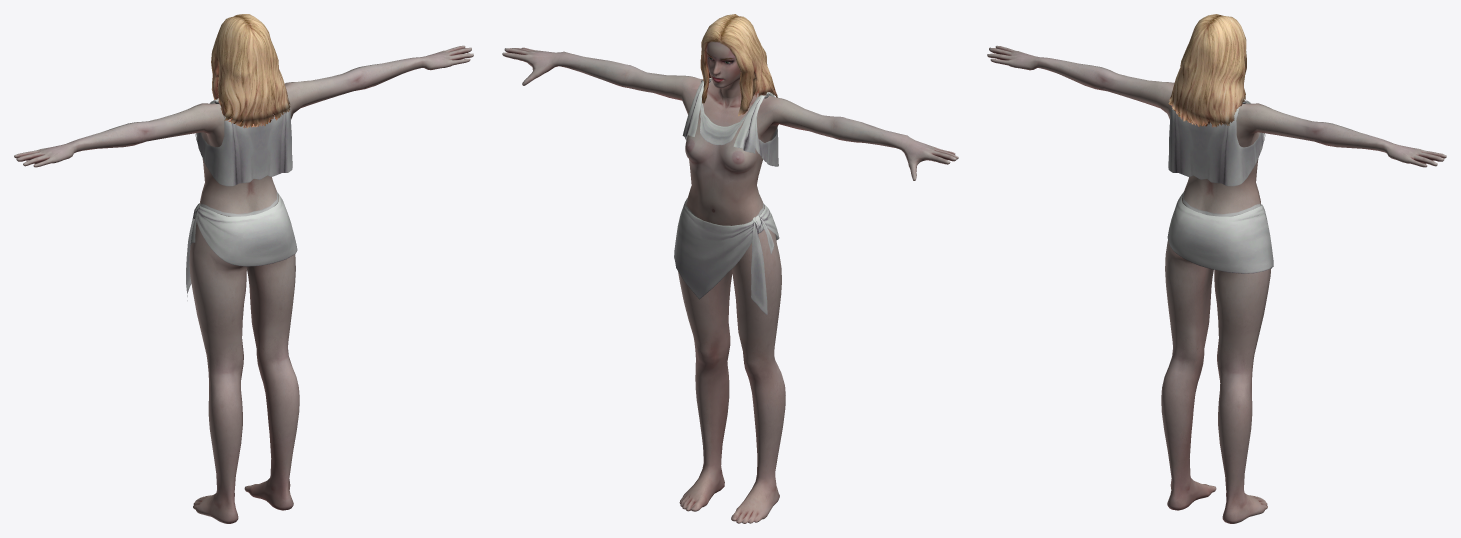
Rendered from aphroditegirl.obj.
3 renders of one model, left to right at view 1: azimuth 30°, elevation 25°; view 2: azimuth 150°, elevation 25°; view 3: azimuth 330°, elevation 25°, orthographic.
Parts seen in each view (by area): view 1: mesh00, mesh01, mesh02; view 2: mesh00, mesh01, mesh02, Object001; view 3: mesh00, mesh01, mesh02.
Part boxes in pixels (left/top/right/bottom): mesh00: left=14, top=45, right=473, bottom=523; mesh01: left=186, top=99, right=297, bottom=300; mesh02: left=211, top=14, right=290, bottom=128; mesh00: left=502, top=47, right=958, bottom=523; mesh01: left=674, top=78, right=779, bottom=314; mesh02: left=700, top=14, right=777, bottom=116; Object001: left=706, top=41, right=740, bottom=98; mesh00: left=987, top=45, right=1446, bottom=523; mesh01: left=1167, top=100, right=1273, bottom=273; mesh02: left=1168, top=14, right=1246, bottom=127.
Size of the model in its own units: 2.18 by 2.25 by 0.3319.
Materials: 2 (2 with a texture image).
